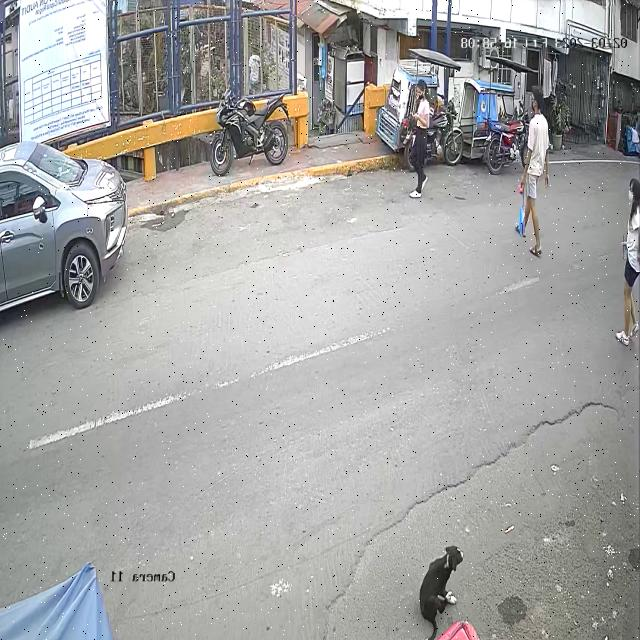garbage_dumping: (616, 176, 640, 356), (518, 194, 524, 238)
